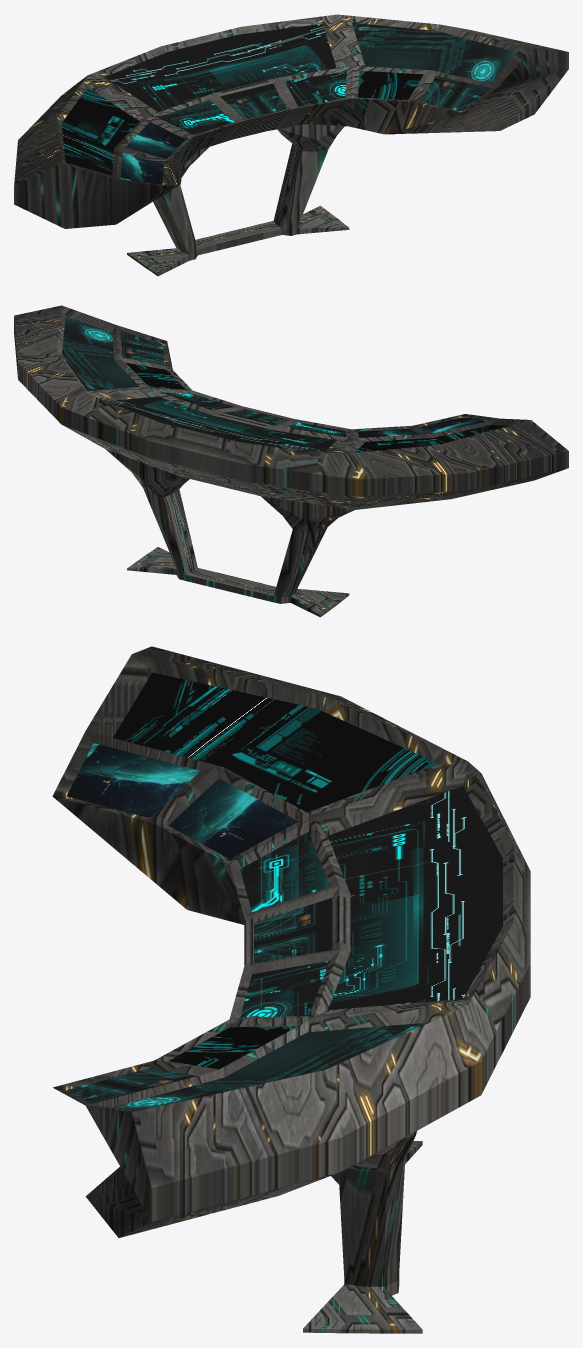
3 renders of one model, top to bottom at view 1: azimuth 30°, elevation 25°; view 2: azimuth 150°, elevation 25°; view 3: azimuth 270°, elevation 25°, orthographic. The views are drawn at different scales.
Visible parts, largest first — view 1: MaterialFBXASC032FBXASC0352142150880, MaterialFBXASC032FBXASC0352142170963, MaterialFBXASC032FBXASC0352142171025, MaterialFBXASC032FBXASC0352142171324, MaterialFBXASC032FBXASC03511298, MaterialFBXASC032FBXASC0352142147988; view 2: MaterialFBXASC032FBXASC0352142150880, MaterialFBXASC032FBXASC0352142171025, MaterialFBXASC032FBXASC0352142170963, MaterialFBXASC032FBXASC0352142171324, MaterialFBXASC032FBXASC03511298, MaterialFBXASC032FBXASC0352142147988; view 3: MaterialFBXASC032FBXASC0352142150880, MaterialFBXASC032FBXASC0352142170963, MaterialFBXASC032FBXASC0352142171324, MaterialFBXASC032FBXASC0352142171025, MaterialFBXASC032FBXASC0352142147988, MaterialFBXASC032FBXASC03511298.
Boxes of the visible parts, <box> form: MaterialFBXASC032FBXASC0352142150880: <box>14,14,568,276</box>; MaterialFBXASC032FBXASC0352142170963: <box>105,23,336,111</box>; MaterialFBXASC032FBXASC0352142171025: <box>220,23,516,118</box>; MaterialFBXASC032FBXASC0352142171324: <box>61,70,423,175</box>; MaterialFBXASC032FBXASC03511298: <box>158,71,346,134</box>; MaterialFBXASC032FBXASC0352142147988: <box>120,122,185,184</box>; MaterialFBXASC032FBXASC0352142150880: <box>14,305,568,617</box>; MaterialFBXASC032FBXASC0352142171025: <box>61,316,286,425</box>; MaterialFBXASC032FBXASC0352142170963: <box>106,396,336,452</box>; MaterialFBXASC032FBXASC0352142171324: <box>126,362,508,452</box>; MaterialFBXASC032FBXASC03511298: <box>160,392,346,437</box>; MaterialFBXASC032FBXASC0352142147988: <box>358,417,487,437</box>; MaterialFBXASC032FBXASC0352142150880: <box>52,646,530,1333</box>; MaterialFBXASC032FBXASC0352142170963: <box>328,786,502,1009</box>; MaterialFBXASC032FBXASC0352142171324: <box>113,672,438,1069</box>; MaterialFBXASC032FBXASC0352142171025: <box>67,898,429,1110</box>; MaterialFBXASC032FBXASC0352142147988: <box>67,743,298,858</box>; MaterialFBXASC032FBXASC03511298: <box>240,832,329,1017</box>.
Bounding box in the file's own units: 24.25 × 7.52 × 9.05.
6 materials, 6 textured.
